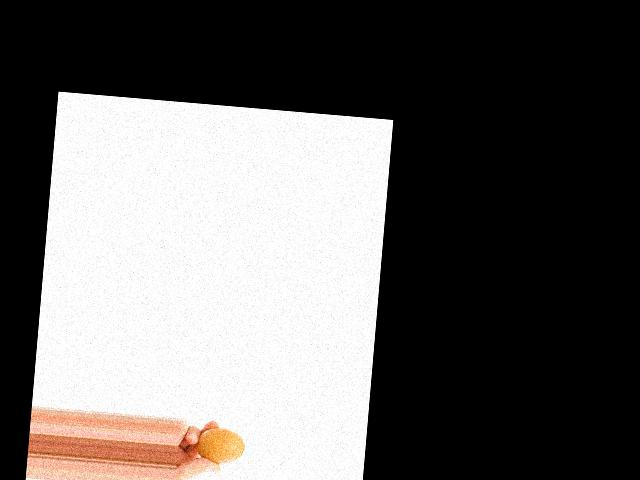egg: (196, 425, 246, 465)
